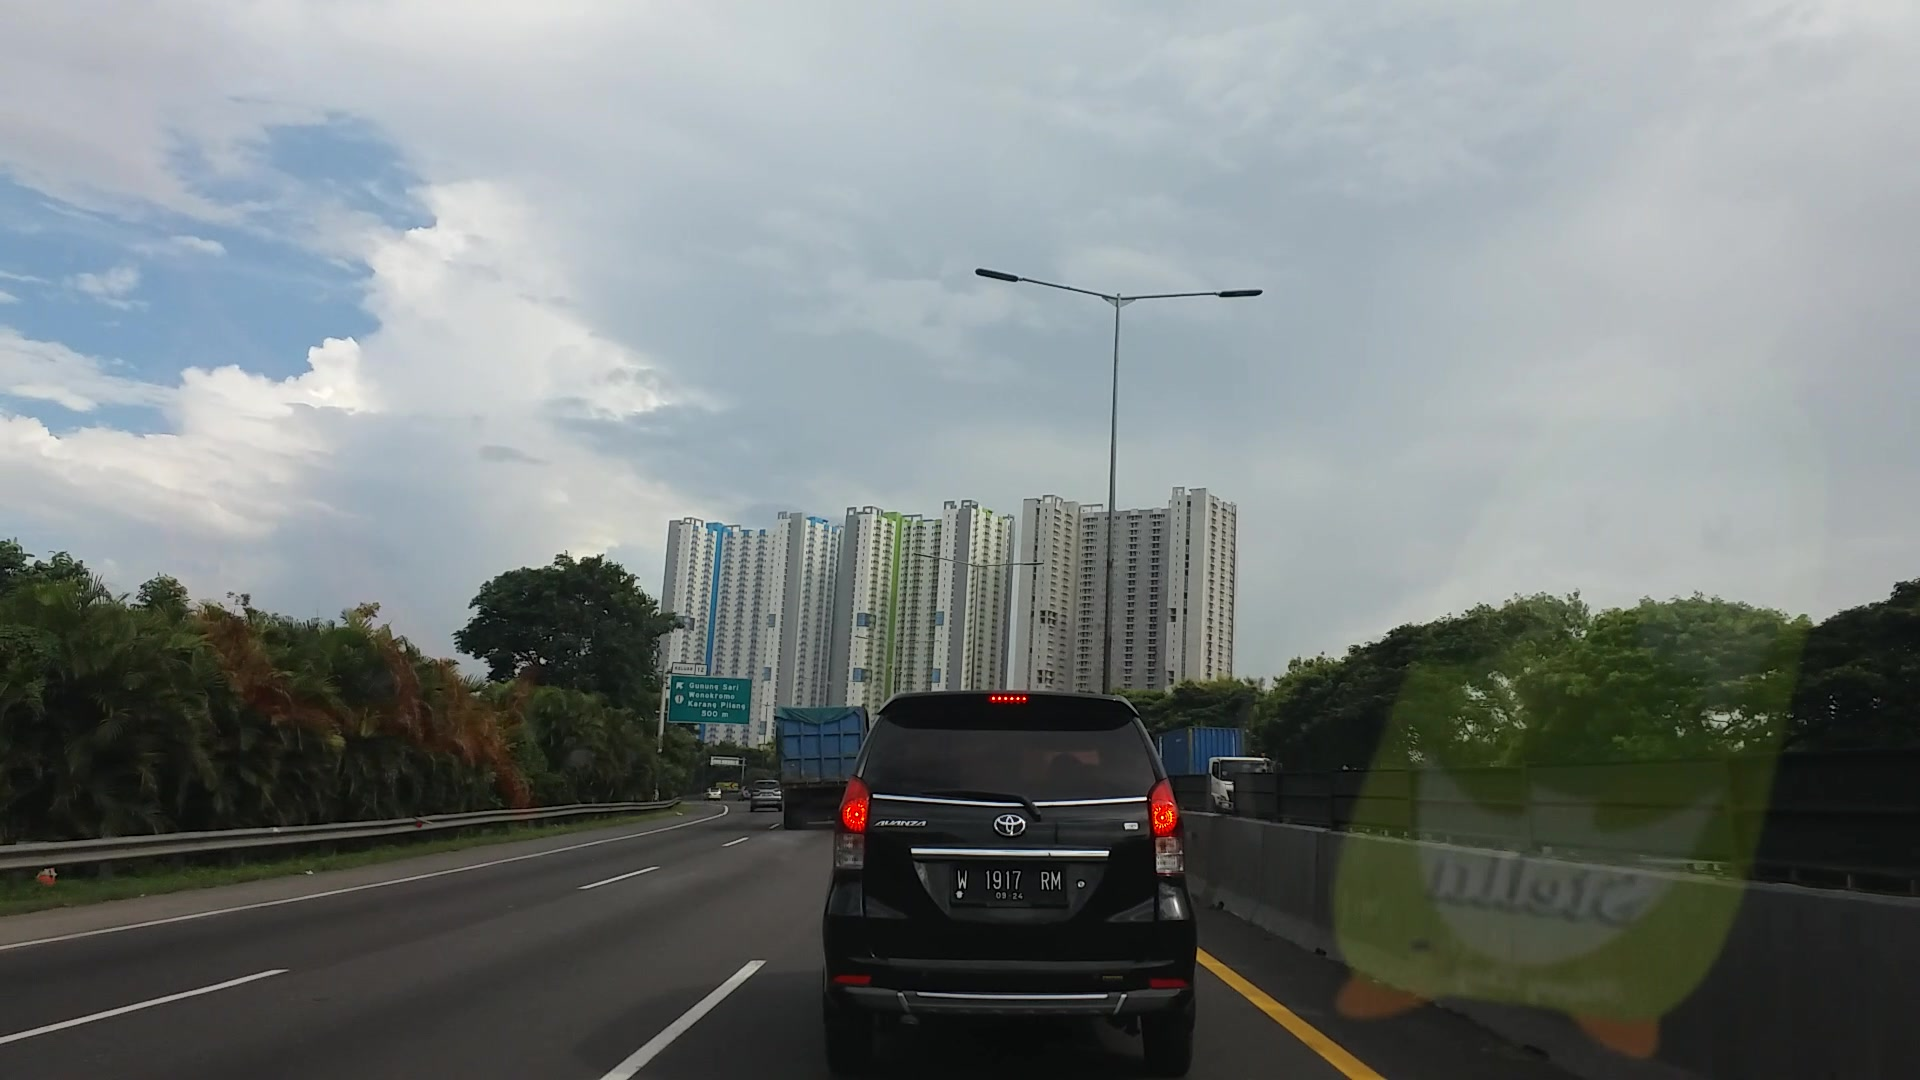plate_positive: (951, 864, 1065, 902)
